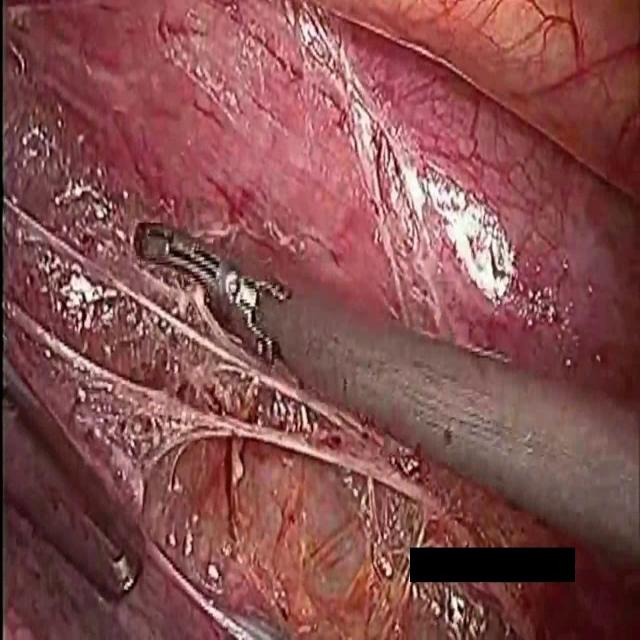surgical-area: (0, 0, 640, 639), (409, 549, 640, 639)
surgical-tool: (132, 220, 640, 575), (0, 354, 140, 604)
